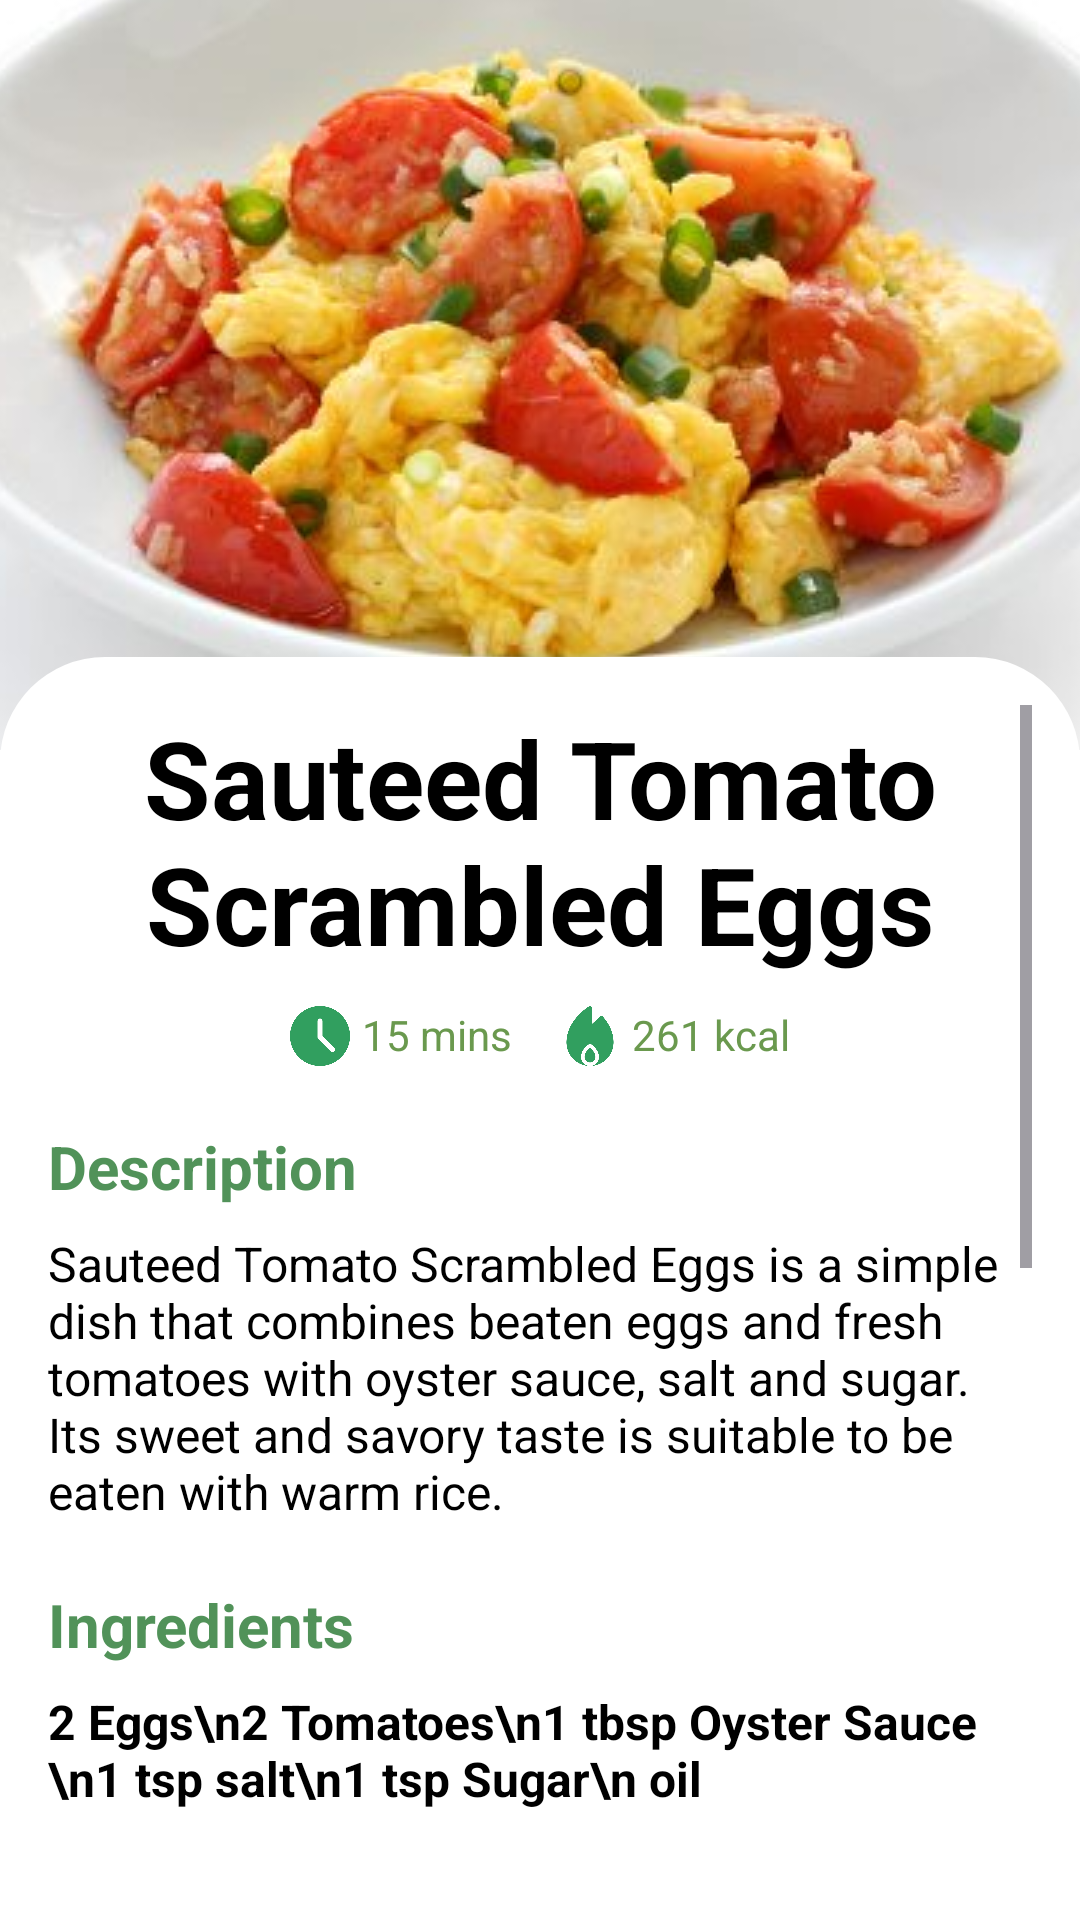

Named icons in this screenshot (1080 x 1920) and their bounding boxes, box=[x1, y1, x2, y2]:
calicon: box=[566, 1006, 614, 1066]
timeicon: box=[290, 1006, 350, 1066]
